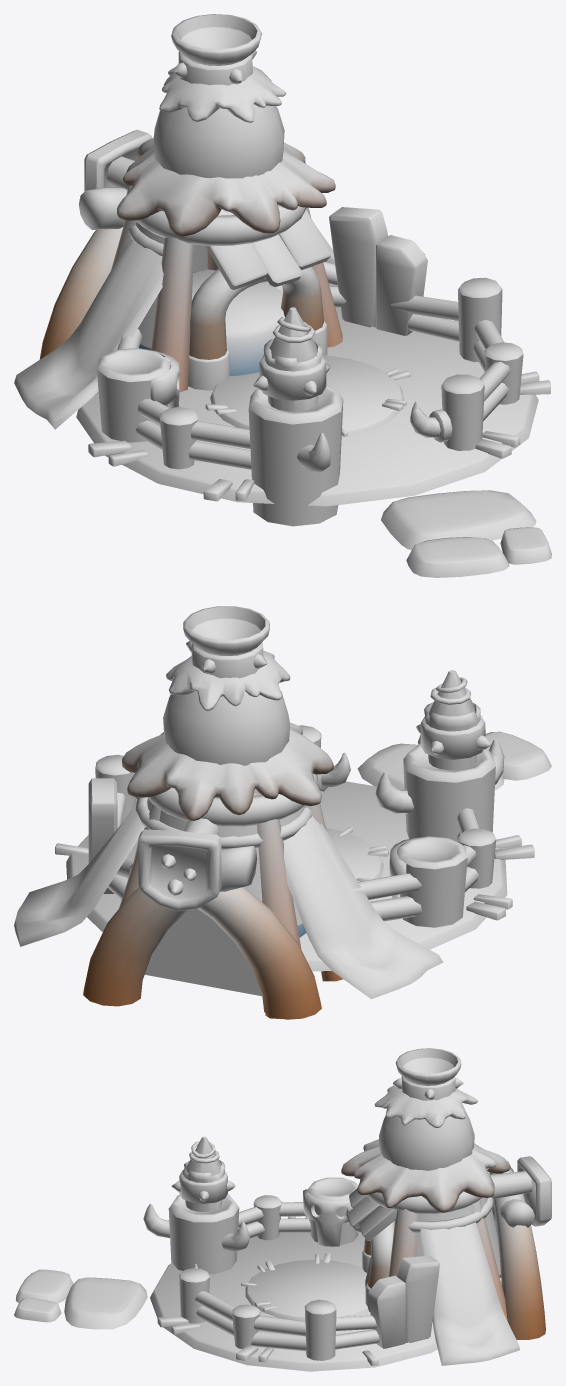
Rendered from Mesh_Item_Petbar_1.fbx.
3 views of the same model, one above another, from view 1: azimuth 30°, elevation 25°; view 2: azimuth 150°, elevation 25°; view 3: azimuth 270°, elevation 25° (orthographic). The views are drawn at different scales.
Parts seen in each view (by area): view 1: Mesh_Item_Petbar_1; view 2: Mesh_Item_Petbar_1; view 3: Mesh_Item_Petbar_1.
Boxes of the visible parts, x1,y1,x2,y2 form: Mesh_Item_Petbar_1: (14,14,551,577); Mesh_Item_Petbar_1: (14,606,551,1019); Mesh_Item_Petbar_1: (14,1048,551,1371).
Size of the model in its own units: 1523 by 1265 by 2327.
